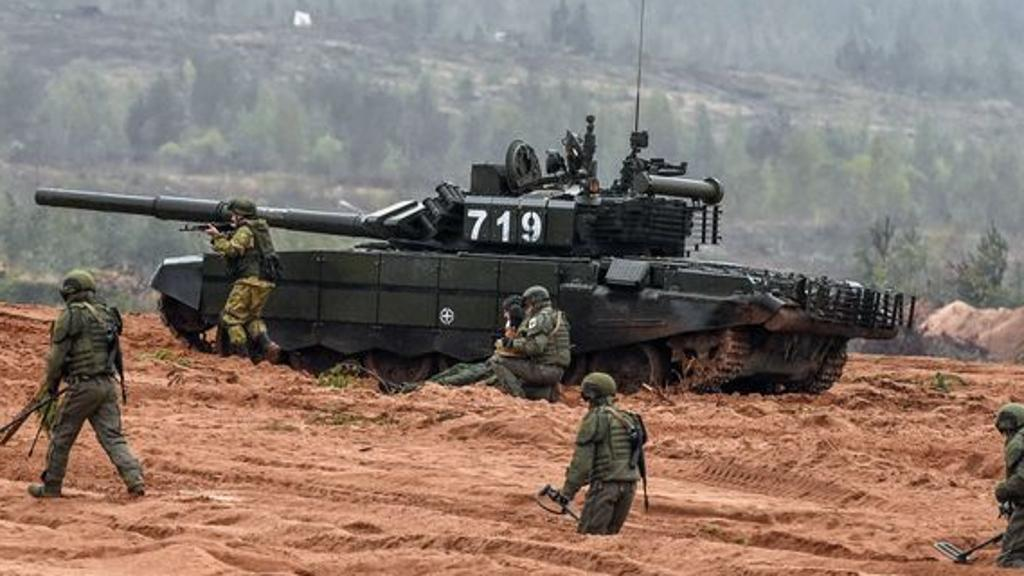TANK: (32, 109, 919, 398)
